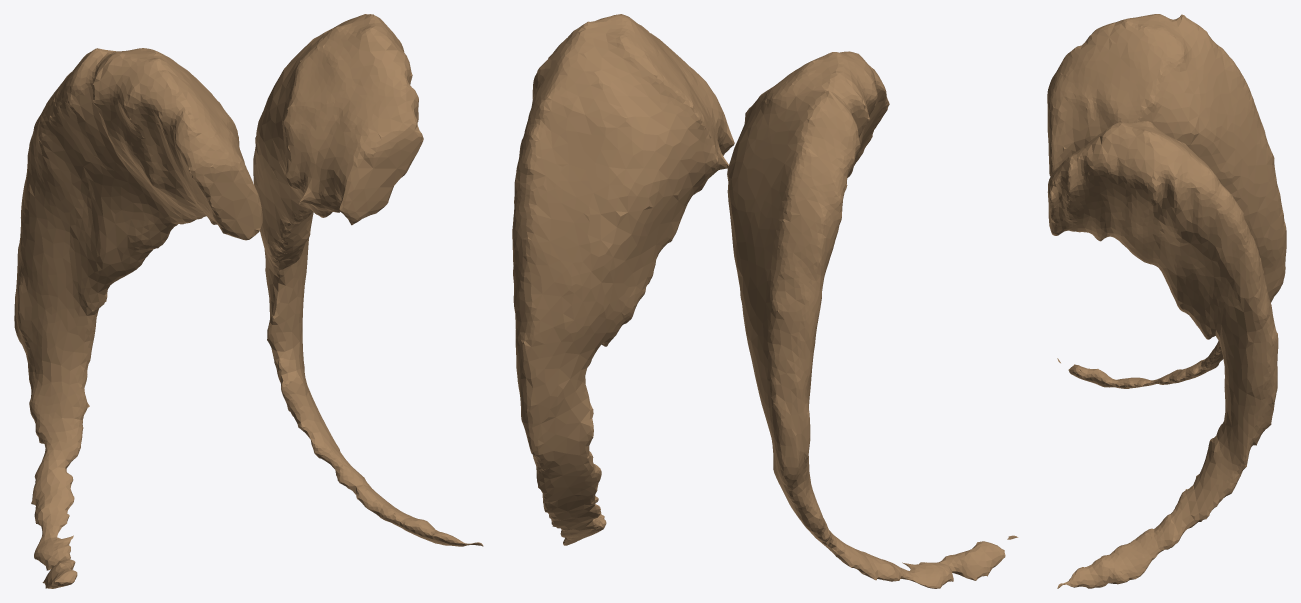
The model's file is Caudate_nucleus.obj.
3 renders of one model, left to right at view 1: azimuth 30°, elevation 25°; view 2: azimuth 150°, elevation 25°; view 3: azimuth 270°, elevation 25°, orthographic. The views are drawn at different scales.
Parts seen in each view (by area): view 1: Caudate_Nucleus_Caudate_nucleus; view 2: Caudate_Nucleus_Caudate_nucleus; view 3: Caudate_Nucleus_Caudate_nucleus.
Boxes of the visible parts, <box> form: Caudate_Nucleus_Caudate_nucleus: <box>14,14,483,588</box>; Caudate_Nucleus_Caudate_nucleus: <box>512,14,1018,588</box>; Caudate_Nucleus_Caudate_nucleus: <box>1047,14,1286,588</box>.
Size of the model in its own units: 149 by 181 by 85.85.
